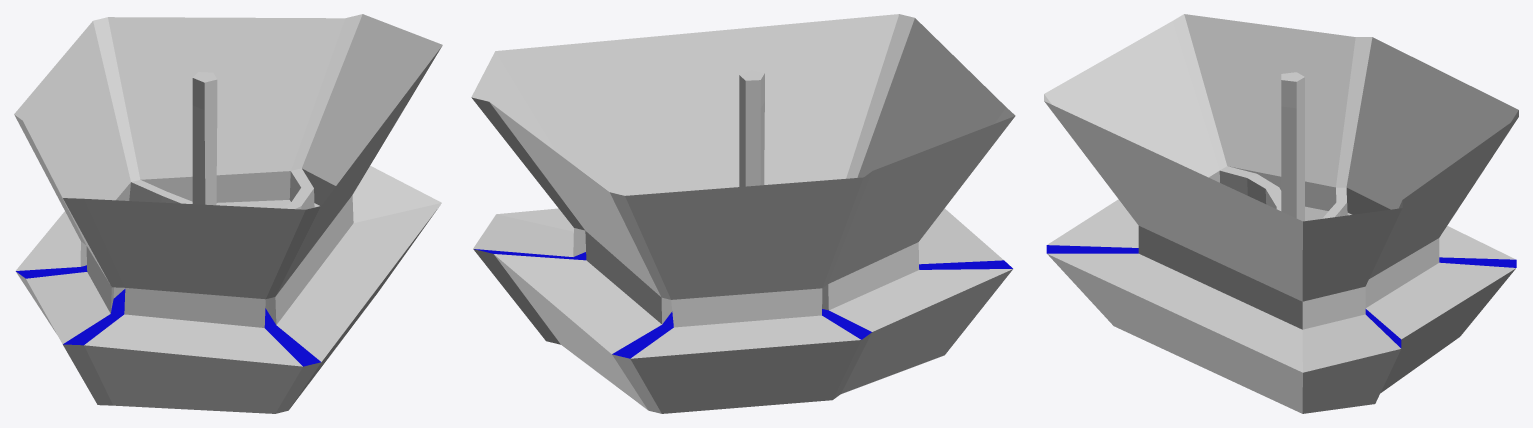
The model's file is RapidFireWeaponAreaInterior003.fbx.
The picture shows the model from 3 angles, left to right: view 1: azimuth 30°, elevation 25°; view 2: azimuth 150°, elevation 25°; view 3: azimuth 270°, elevation 25°; orthographic projection. The views are drawn at different scales.
Parts seen in each view (by area): view 1: UnbakedLightMesh, Cylinder; view 2: UnbakedLightMesh, Cylinder; view 3: UnbakedLightMesh, Cylinder.
Part boxes in pixels (x1=…): UnbakedLightMesh: x1=14, y1=14, x2=442, y2=413; Cylinder: x1=16, y1=72, x2=441, y2=366; UnbakedLightMesh: x1=471, y1=14, x2=1015, y2=413; Cylinder: x1=473, y1=70, x2=1012, y2=358; UnbakedLightMesh: x1=1044, y1=14, x2=1518, y2=413; Cylinder: x1=1046, y1=72, x2=1516, y2=372.
Bounding box in the file's own units: 4060 × 2314 × 3927.
